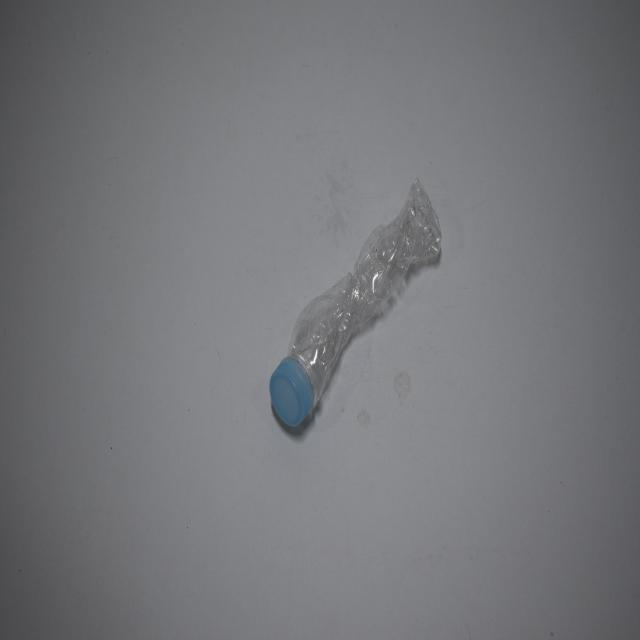bottle: (262, 153, 449, 454)
